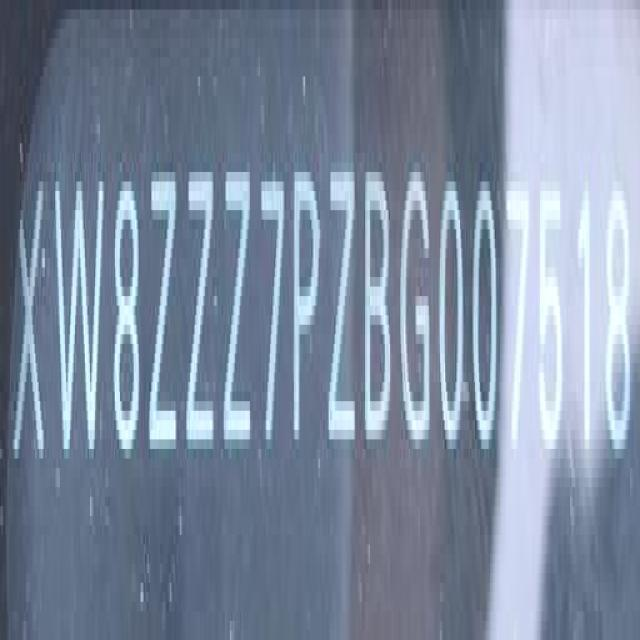0: (438, 174, 466, 454), (473, 179, 499, 459)
1: (574, 178, 595, 462)
5: (539, 174, 567, 464)
7: (258, 163, 285, 460), (507, 173, 533, 465)
8: (114, 170, 142, 470), (605, 181, 635, 456)
B: (362, 159, 393, 454)
G: (400, 162, 436, 454)
P: (291, 152, 322, 467)
W: (54, 165, 104, 478)
X: (16, 177, 46, 483)
Z: (326, 159, 358, 462), (187, 160, 218, 470), (147, 163, 178, 470), (224, 159, 254, 466)
